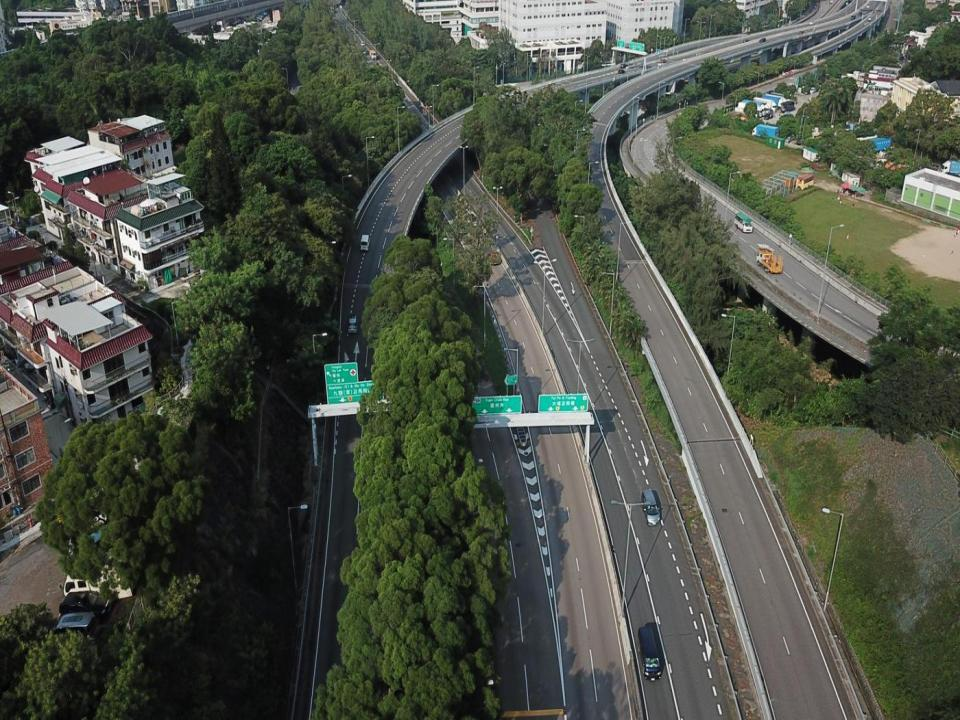bus: (734, 211, 753, 234)
car: (58, 591, 113, 620), (347, 312, 359, 334), (486, 250, 501, 266), (924, 161, 942, 171), (784, 132, 796, 142), (763, 110, 774, 120), (658, 57, 667, 65), (620, 62, 628, 70), (758, 36, 766, 44), (741, 38, 750, 45), (797, 30, 805, 37), (808, 20, 816, 26), (617, 69, 626, 74), (803, 89, 810, 95), (850, 14, 856, 21), (360, 40, 365, 47), (867, 15, 872, 22), (865, 3, 871, 8), (858, 10, 862, 16)
truck: (59, 558, 133, 600), (754, 247, 784, 274), (862, 136, 891, 154), (751, 124, 779, 142), (741, 98, 766, 116), (751, 96, 777, 113), (737, 101, 760, 119), (760, 94, 784, 109), (939, 159, 960, 176), (733, 105, 754, 120), (763, 93, 785, 106), (766, 90, 785, 104), (780, 100, 796, 112), (368, 50, 376, 61)
van: (48, 610, 100, 644), (637, 626, 662, 682), (640, 489, 662, 526), (359, 233, 371, 251), (809, 86, 817, 94)
